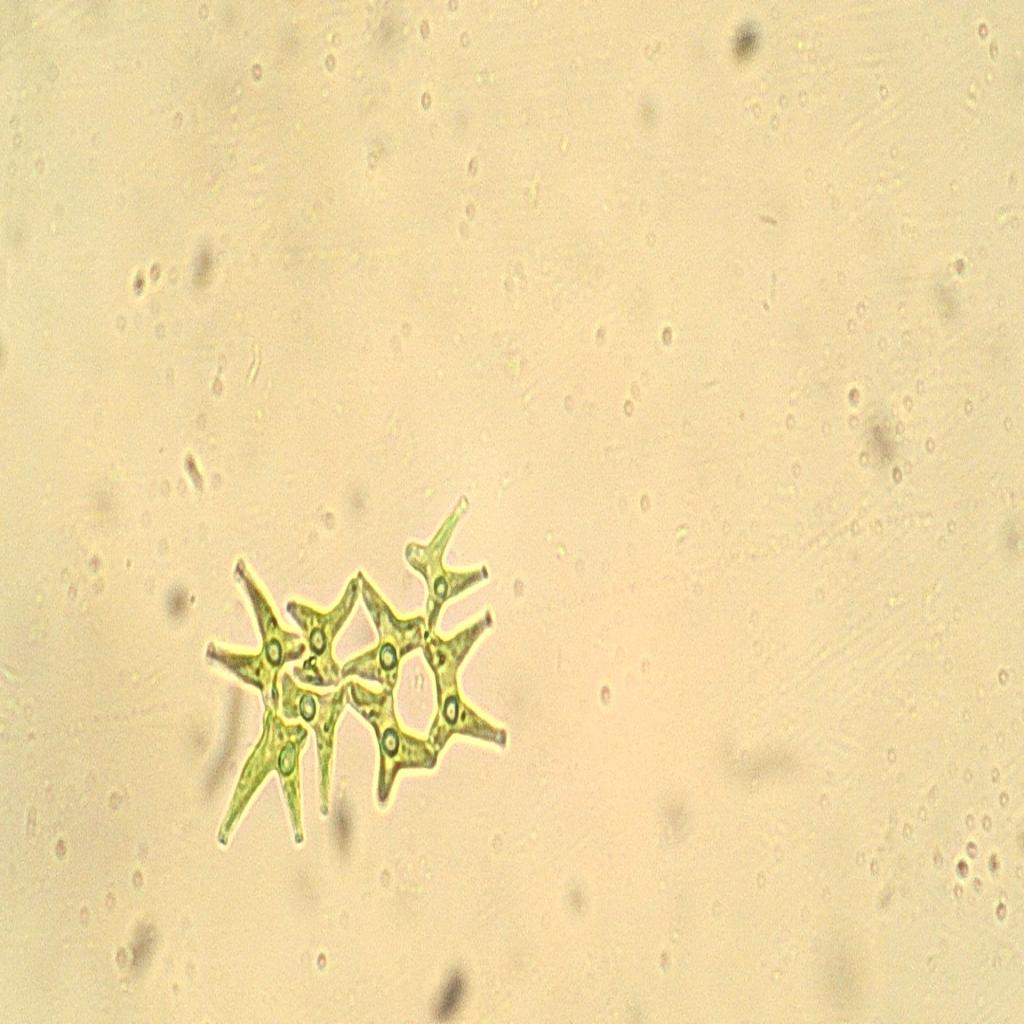Pediastrum_CFI: (191, 480, 523, 860)
